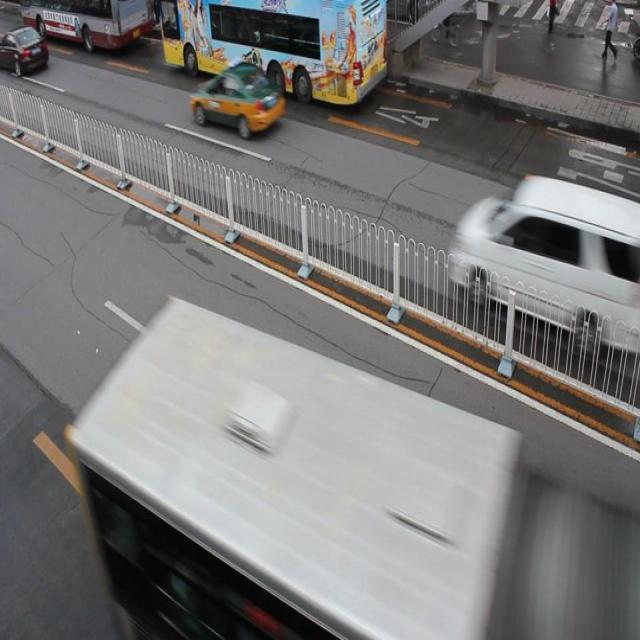car: (190, 60, 285, 136), (0, 24, 50, 78)
truck: (447, 174, 632, 351)
van: (72, 300, 640, 640), (159, 1, 387, 107), (22, 1, 150, 50)
